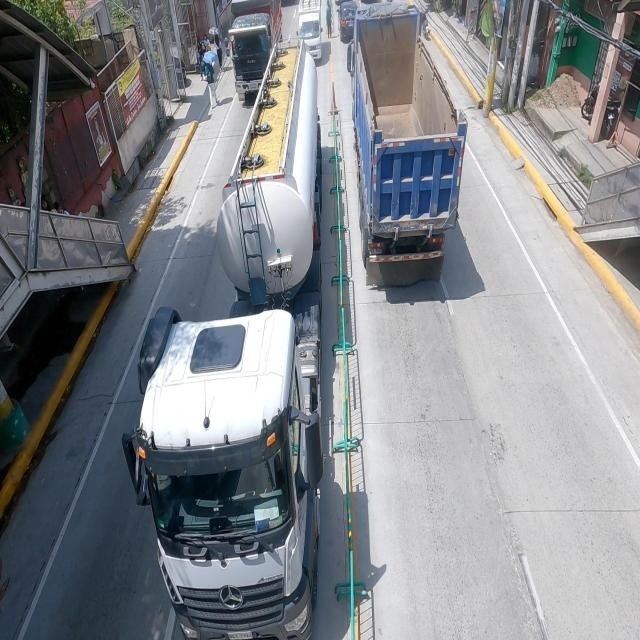Truck: (138, 39, 320, 640), (351, 7, 467, 277), (229, 1, 283, 97)
Van: (296, 0, 323, 60)
